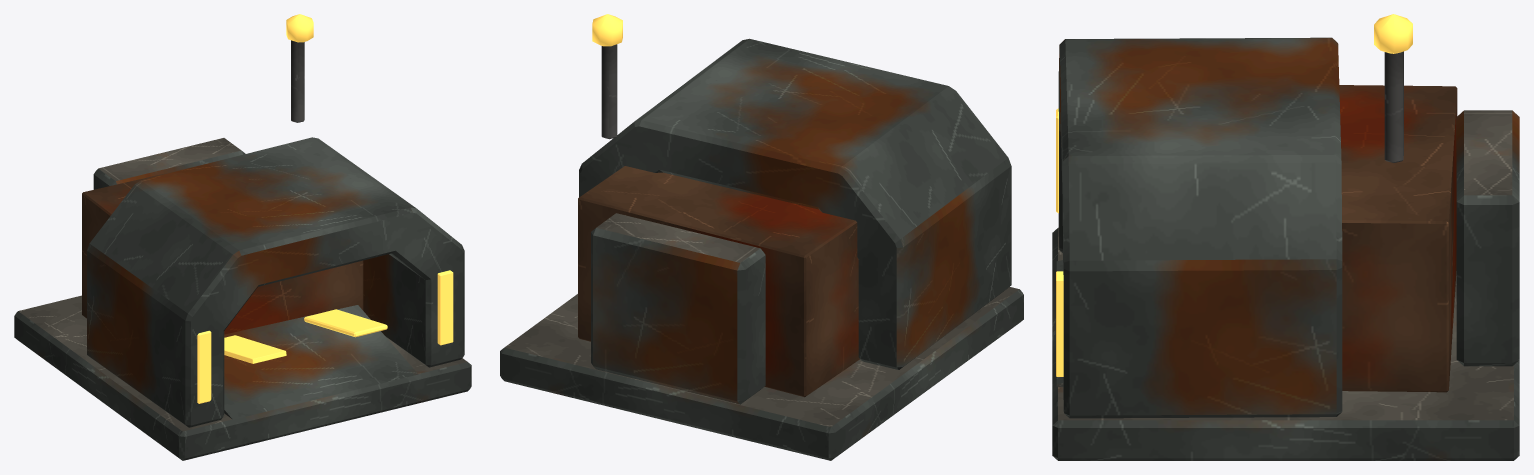
The model's file is R4X_GroundDroneDeployer_LOD1.glb.
3 views of the same model, side by side, from view 1: azimuth 30°, elevation 25°; view 2: azimuth 150°, elevation 25°; view 3: azimuth 270°, elevation 25° (orthographic). The views are drawn at different scales.
Parts seen in each view (by area): view 1: R4X_GroundDroneDeployer_LOD1; view 2: R4X_GroundDroneDeployer_LOD1; view 3: R4X_GroundDroneDeployer_LOD1.
Boxes of the visible parts, bbox=[...] form: R4X_GroundDroneDeployer_LOD1: bbox=[14, 14, 471, 460]; R4X_GroundDroneDeployer_LOD1: bbox=[500, 14, 1023, 460]; R4X_GroundDroneDeployer_LOD1: bbox=[1052, 14, 1519, 460].
Bounding box in the file's own units: 0.52 × 0.51 × 0.52.
Materials: 5 (4 with a texture image).
